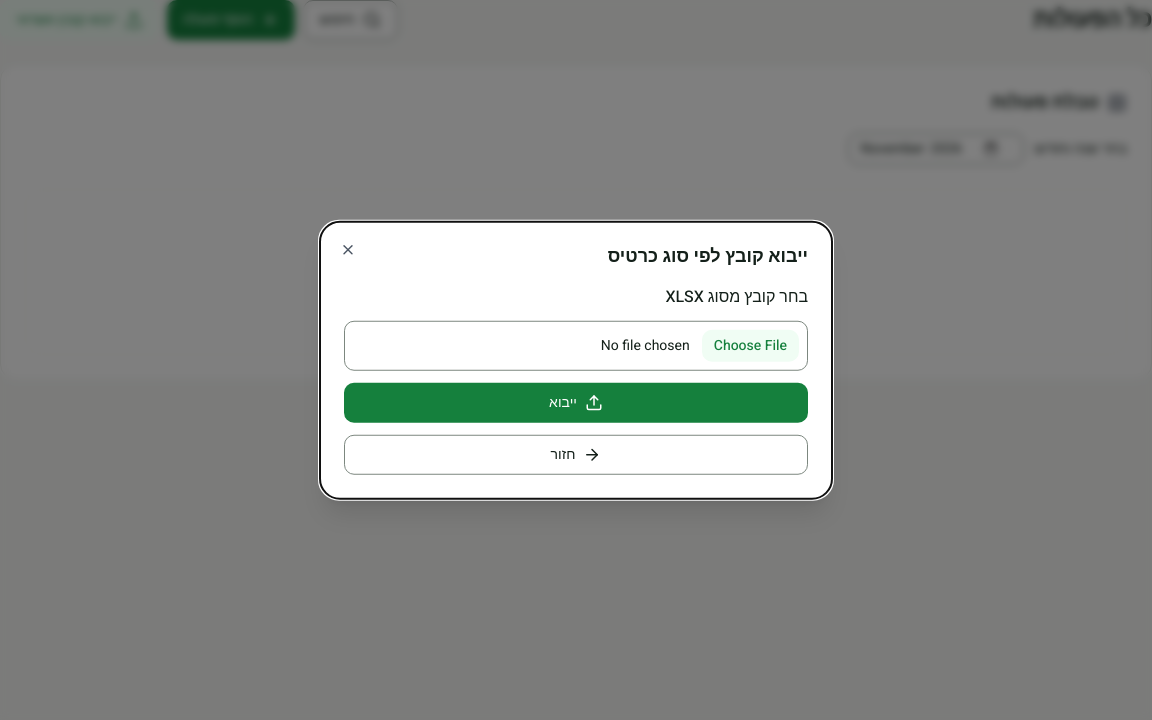
Test: import result › a partial failure reports the failed rows and that re-importing is safe
Earlier steps of the test are not shown.
Step 1. Click the button "ייבוא" → (576, 402), box [344,382,808,422]
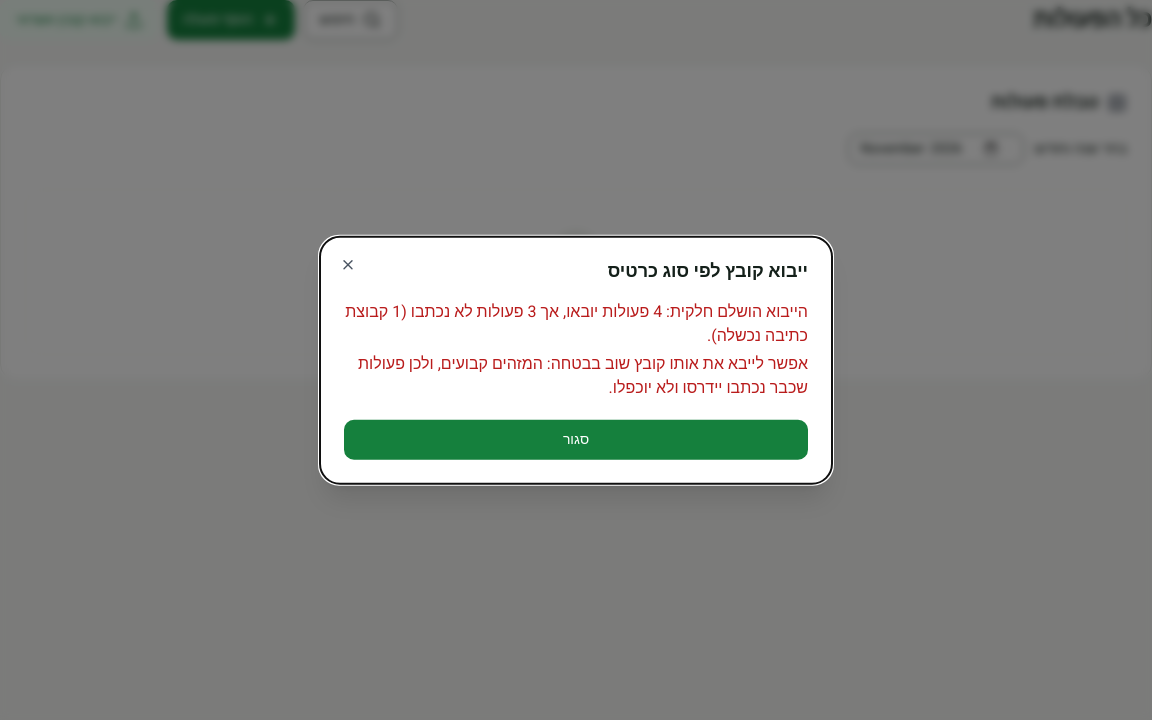
Expected: the message shows "4 פעולות יובאו", [345,299,808,347]
Expected: the message shows "3 פעולות לא נכתבו", [345,299,808,347]
Expected: the message shows "המזהים קבועים", [358,351,808,399]
